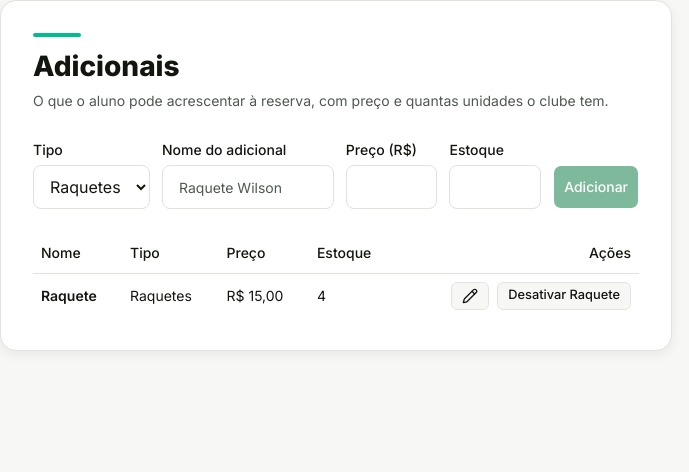
Scenario: AdicionaisManager — SPEC-054/D12 › D13: baixar o estoque abaixo do reservado mostra os horários que ficaram acima
Click the button named "Editar Raquete" at (470, 296), box [451, 282, 489, 310]
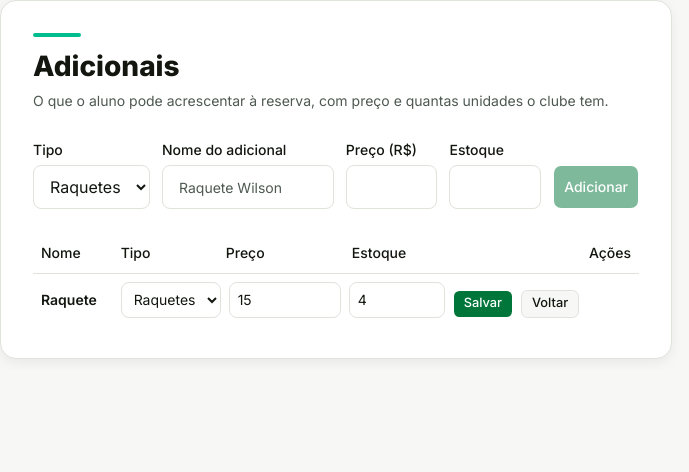
Replace the text in the number field named "Estoque de Raquete" with "1" at (397, 300), box [349, 282, 445, 318]
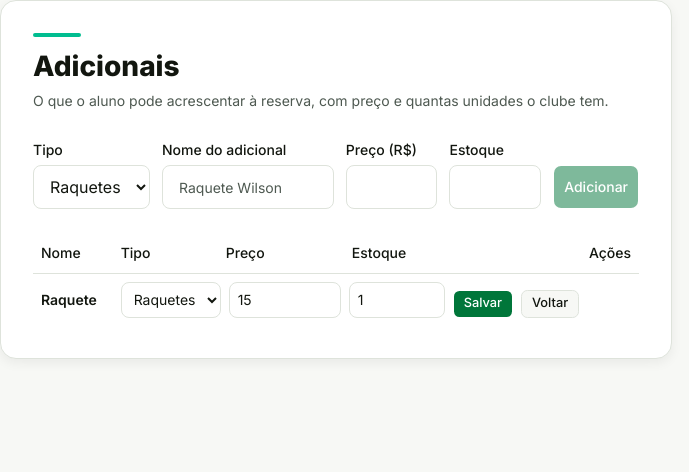
Click the button with aria-label "Salvar Raquete" at (483, 304), box [453, 290, 513, 318]
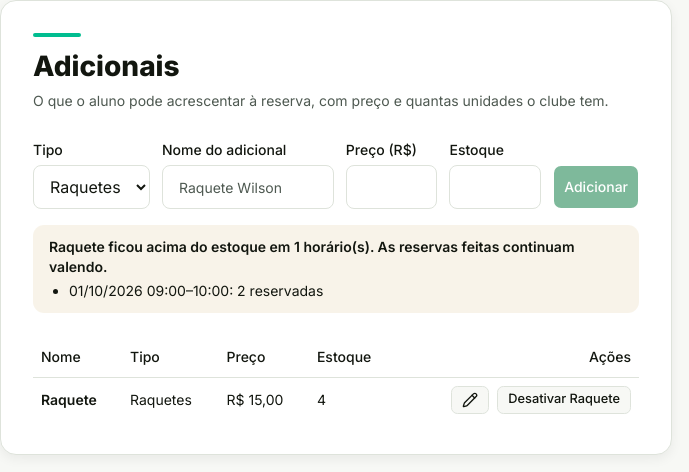
Expected: the message shows "Raquete ficou acima do estoque em 1 horário", [33, 225, 639, 313]
Expected: the message shows "01/10/2026 09:00–10:00: 2 reservadas", [33, 225, 639, 313]
